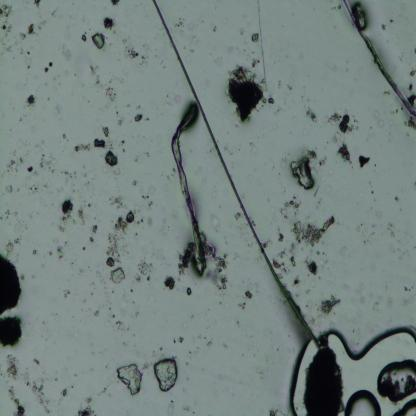Air bubble: (318, 318, 416, 380), (288, 329, 322, 416), (375, 358, 416, 401), (344, 388, 382, 416), (394, 398, 416, 414)
Background material: (5, 353, 51, 414), (85, 282, 136, 336), (303, 348, 342, 414), (104, 210, 136, 284), (230, 64, 266, 124), (342, 206, 388, 242), (291, 146, 327, 190), (0, 253, 22, 315), (292, 216, 336, 246), (204, 241, 228, 292), (92, 62, 118, 107), (151, 357, 179, 392), (115, 364, 142, 398), (172, 244, 200, 274), (325, 110, 360, 133), (0, 315, 24, 347), (57, 198, 76, 234), (7, 384, 25, 415), (279, 198, 303, 220), (320, 294, 342, 315), (4, 155, 25, 177), (0, 2, 14, 34), (76, 139, 107, 153), (338, 141, 354, 165), (38, 154, 57, 174), (136, 260, 152, 283), (142, 187, 157, 210), (18, 23, 37, 41), (79, 396, 96, 415), (272, 256, 288, 276), (124, 40, 139, 61), (108, 195, 128, 210), (4, 236, 21, 252), (302, 259, 318, 275), (92, 32, 106, 50), (358, 155, 373, 170), (162, 275, 176, 291), (102, 16, 115, 30), (61, 170, 76, 182), (306, 108, 318, 122), (106, 152, 118, 166), (77, 208, 86, 226), (55, 244, 65, 260), (90, 223, 98, 243), (26, 165, 39, 177), (132, 112, 144, 125), (126, 179, 141, 189), (261, 238, 273, 250), (25, 95, 37, 107), (250, 29, 260, 43), (103, 125, 112, 139), (407, 92, 416, 106), (3, 208, 12, 221), (288, 257, 298, 268), (244, 289, 254, 300), (3, 182, 13, 193), (60, 387, 69, 399), (32, 0, 42, 10), (184, 287, 193, 297), (44, 63, 53, 72), (278, 231, 284, 243), (178, 334, 184, 346), (267, 97, 275, 105), (233, 212, 242, 219), (294, 277, 301, 286), (380, 22, 386, 32), (82, 34, 88, 43), (111, 0, 120, 6)
Cellulose filter fibre: (342, 0, 416, 117), (166, 104, 207, 274)
Microfibre: (152, 0, 323, 352)
